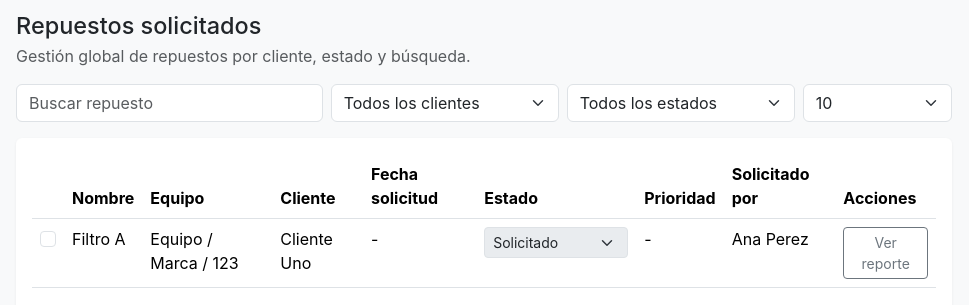
RepuestosSolicitadosPage (module off) › shows Create OT button when selecting a Solicitado repuesto
The image size is (969, 305).
Click the checkbox. click: point(48, 239)
box: [40, 231, 56, 247]
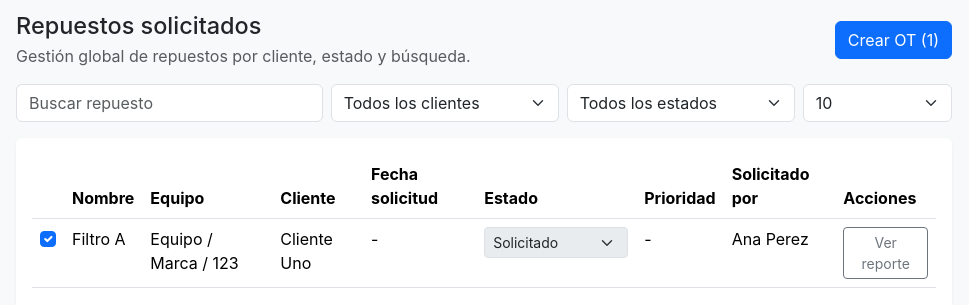
expect the button "Crear OT (1)" is shown: met, box [835, 21, 952, 59]
